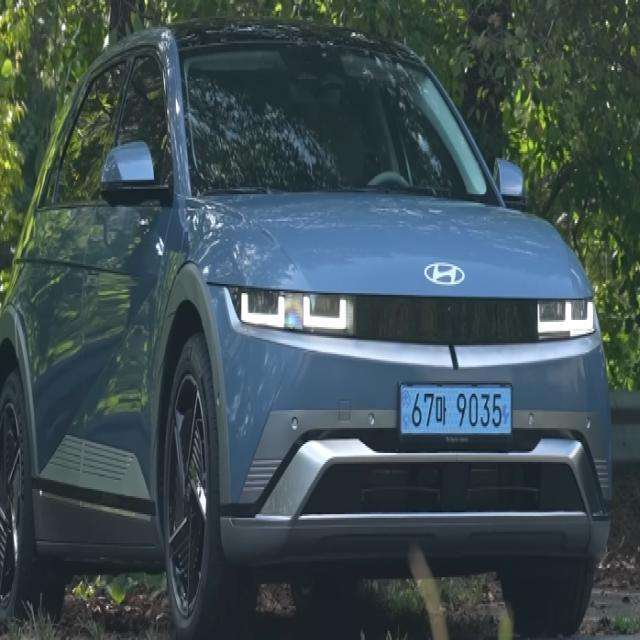car: (390, 361, 529, 467)
carev: (400, 381, 413, 443), (499, 387, 513, 435)
